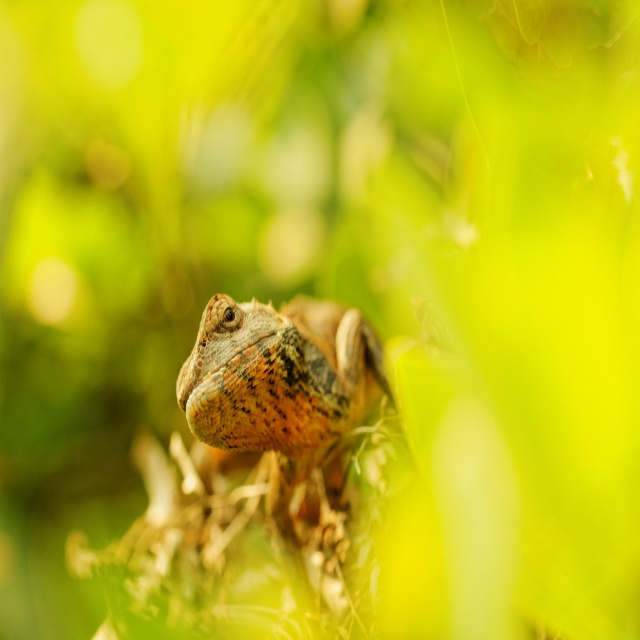Lizard: (176, 298, 410, 557)
